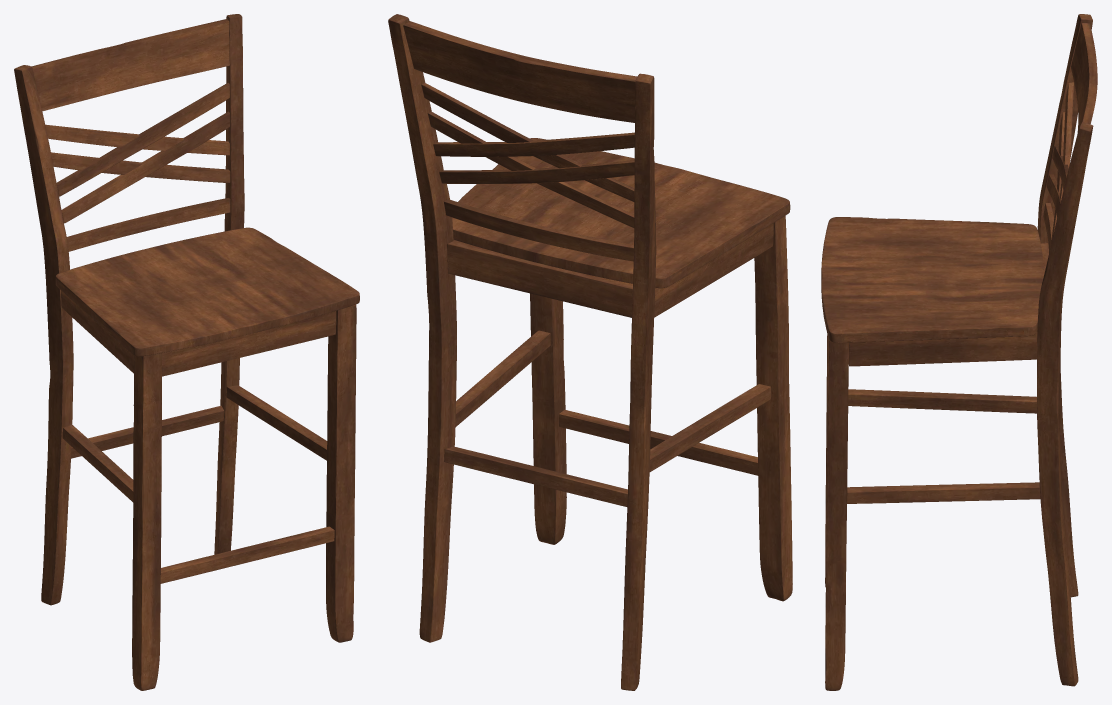
Rendered from abo-B07DBFM8VB.glb.
3 renders of one model, left to right at view 1: azimuth 30°, elevation 25°; view 2: azimuth 150°, elevation 25°; view 3: azimuth 270°, elevation 25°, orthographic. The views are drawn at different scales.
Bounding box in the file's own units: 0.487 × 1.11 × 0.487.
1 material, 1 textured.
